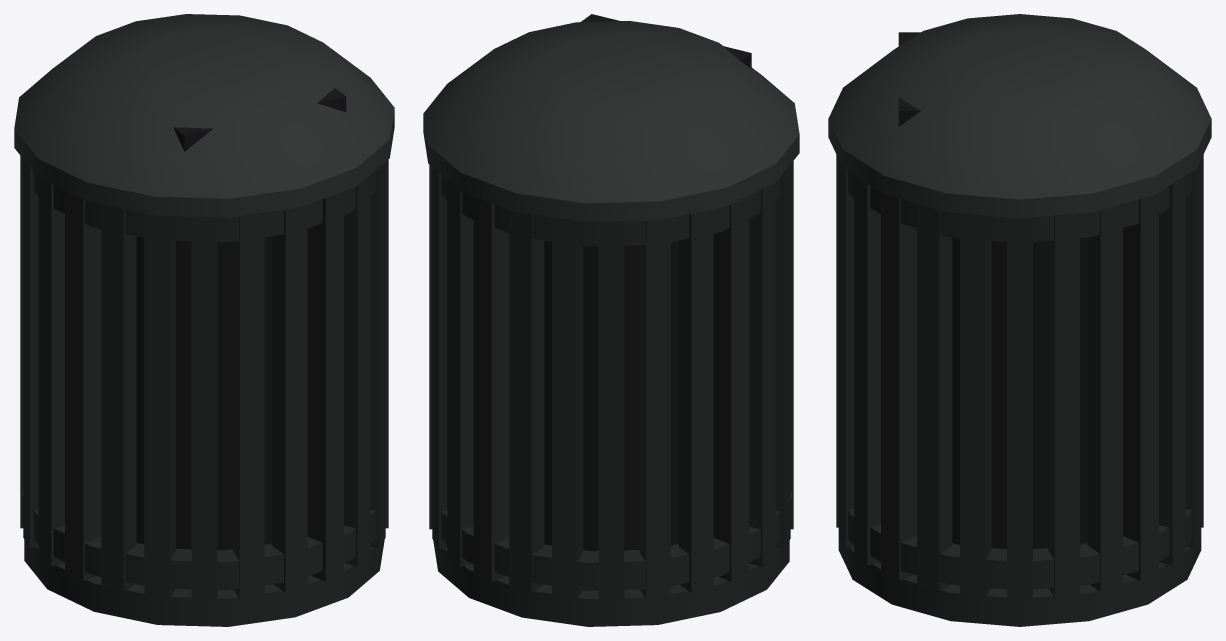
Rendered from seattle_trash_can.glb.
3 views of the same model, side by side, from view 1: azimuth 30°, elevation 25°; view 2: azimuth 150°, elevation 25°; view 3: azimuth 270°, elevation 25° (orthographic).
Visible parts, largest first — view 1: seattle_trash_can; view 2: seattle_trash_can; view 3: seattle_trash_can.
Part boxes in pixels (<box>): seattle_trash_can: <box>14,14,394,626</box>; seattle_trash_can: <box>423,14,799,626</box>; seattle_trash_can: <box>828,14,1211,626</box>.
Size of the model in its own units: 0.74 by 1.05 by 0.74.
Materials: 1 (1 with a texture image).
